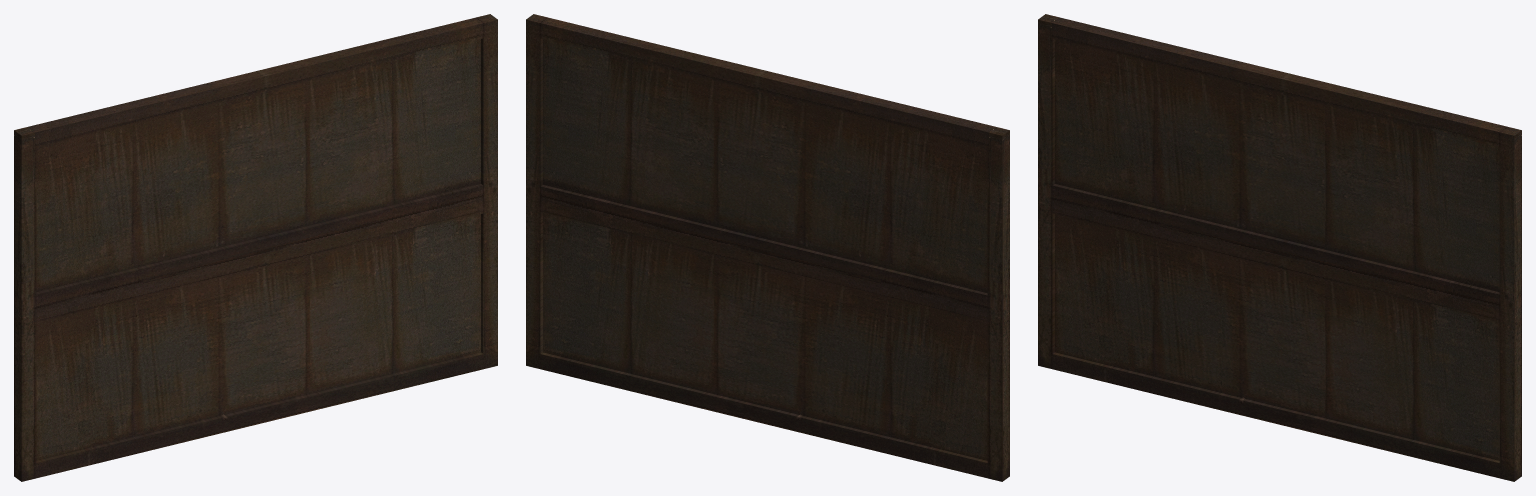
Rendered from metal_fence_hr_1.glb.
The picture shows the model from 3 angles, left to right: view 1: azimuth 30°, elevation 25°; view 2: azimuth 150°, elevation 25°; view 3: azimuth 330°, elevation 25°; orthographic projection.
Parts seen in each view (by area): view 1: metal_fence_hr_1; view 2: metal_fence_hr_1; view 3: metal_fence_hr_1.
Part boxes in pixels (x1=…): metal_fence_hr_1: x1=14, y1=14, x2=497, y2=481; metal_fence_hr_1: x1=526, y1=14, x2=1009, y2=481; metal_fence_hr_1: x1=1038, y1=14, x2=1521, y2=481.
Bounding box in the file's own units: 3.6 × 2.5 × 0.1.
1 material, 1 textured.
